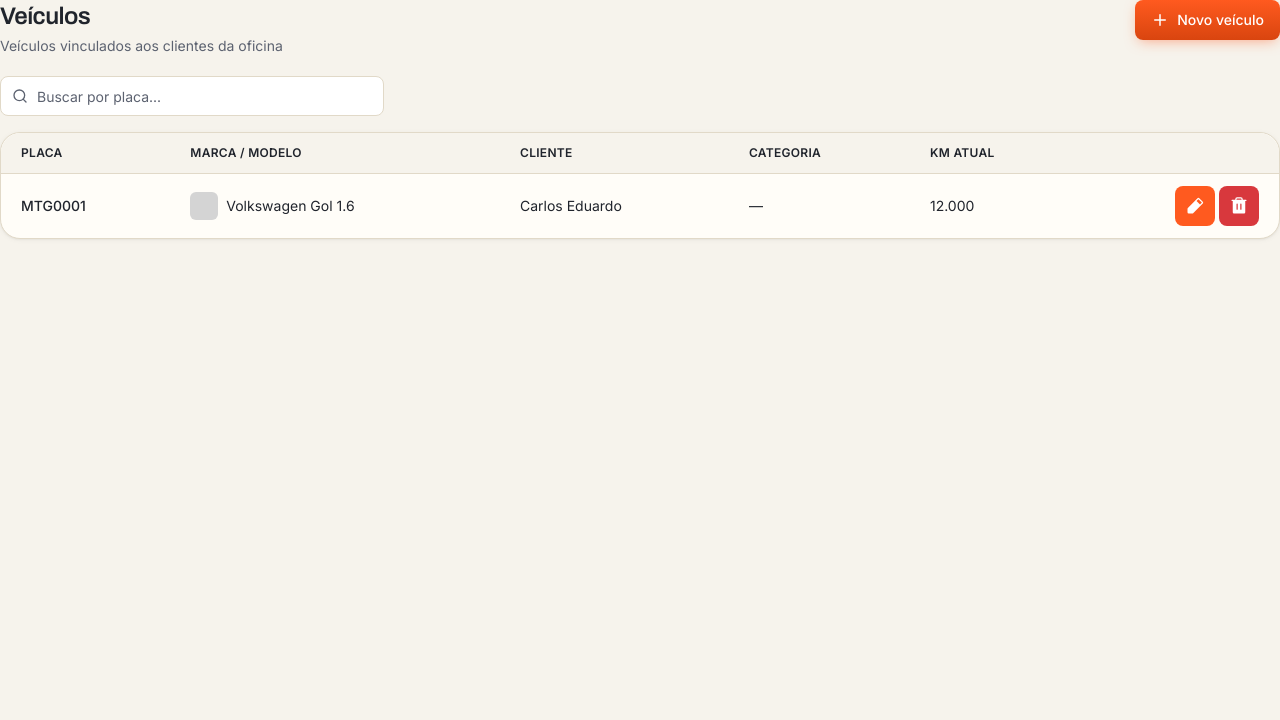
it: VeiculosPage › opens the edit modal from the row’s pencil button
Click the button named "Editar".
click(1195, 206)  # box [1175, 186, 1215, 226]
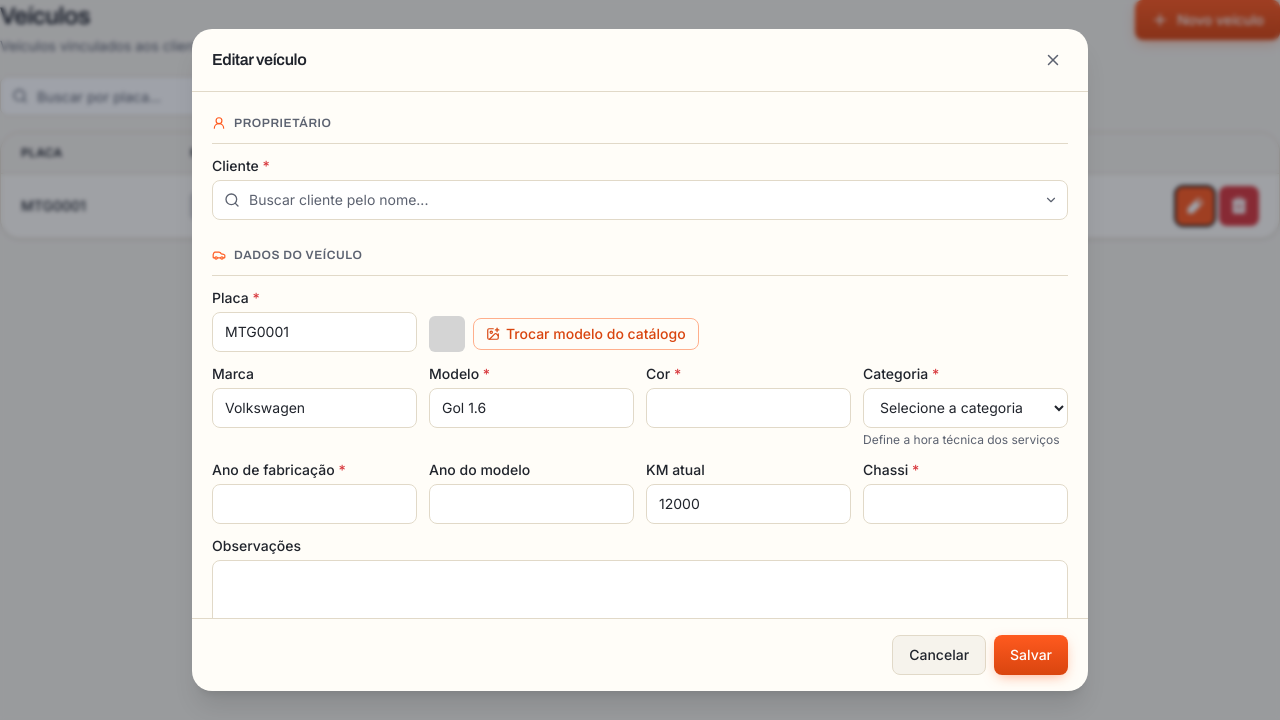
Expected: the heading "Editar veículo" is shown, [212, 48, 306, 72]
